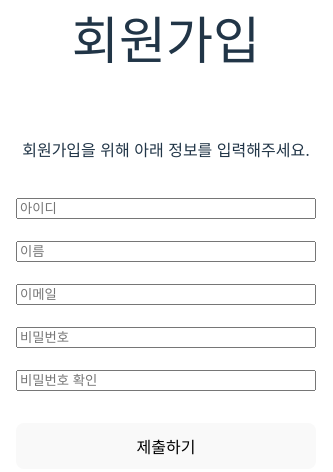
it: password field and password-confirm field validation - match
The width and height of the screenshot is (333, 472).
Type "abc1234" into the password field with placeholder "비밀번호" at {"x": 166, "y": 338}, box [16, 327, 316, 348]
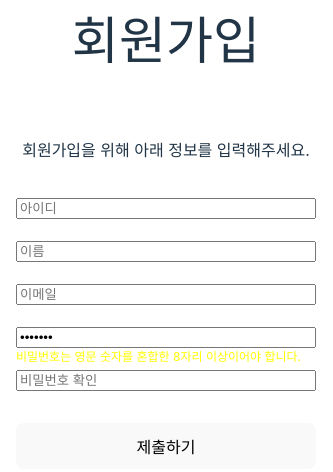
Type "ab12345" into the password field with placeholder "비밀번호 확인" at {"x": 166, "y": 381}, box [16, 370, 316, 391]
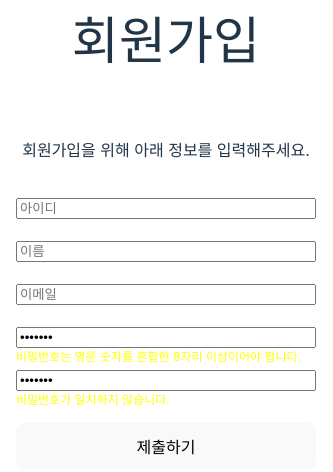
expect the text "비밀번호가 일치하지 않습니다." is shown: met, box [16, 391, 170, 403]
